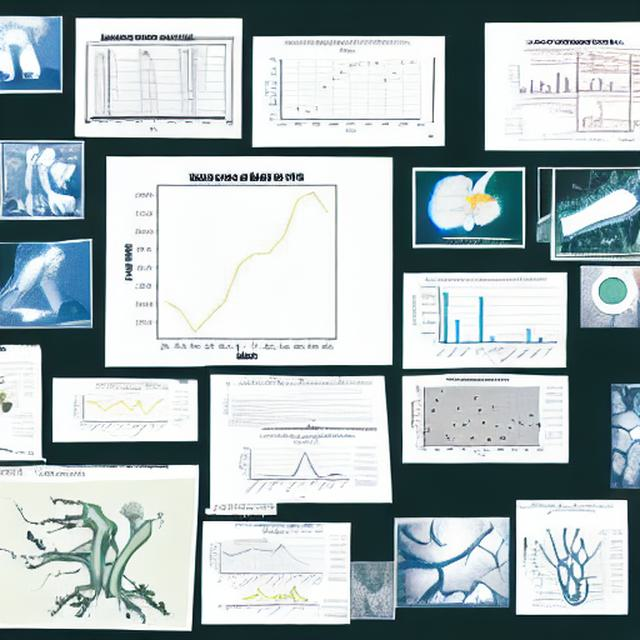Graph: (110, 161, 377, 361), (262, 38, 427, 136), (410, 275, 561, 365), (408, 377, 545, 462), (236, 432, 353, 499), (74, 385, 171, 439), (209, 537, 292, 588), (509, 62, 573, 99)
